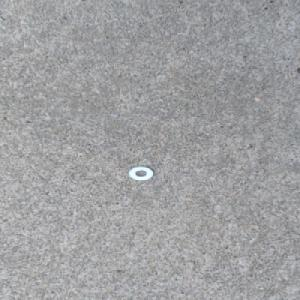Washer: (126, 165, 155, 182)
